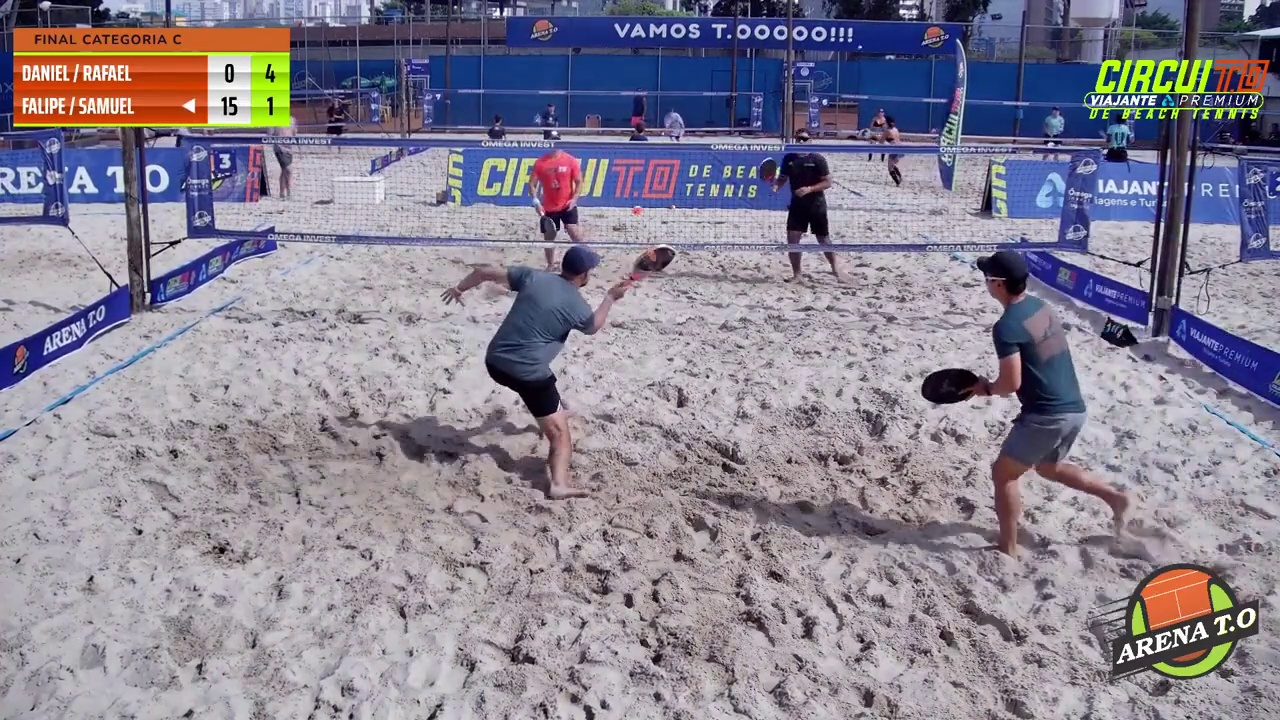court_line: (630, 0, 798, 437)
